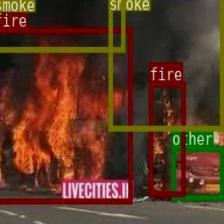fire: (0, 27, 131, 202), (149, 81, 184, 196)
smoke: (109, 0, 224, 129), (0, 0, 125, 51)
